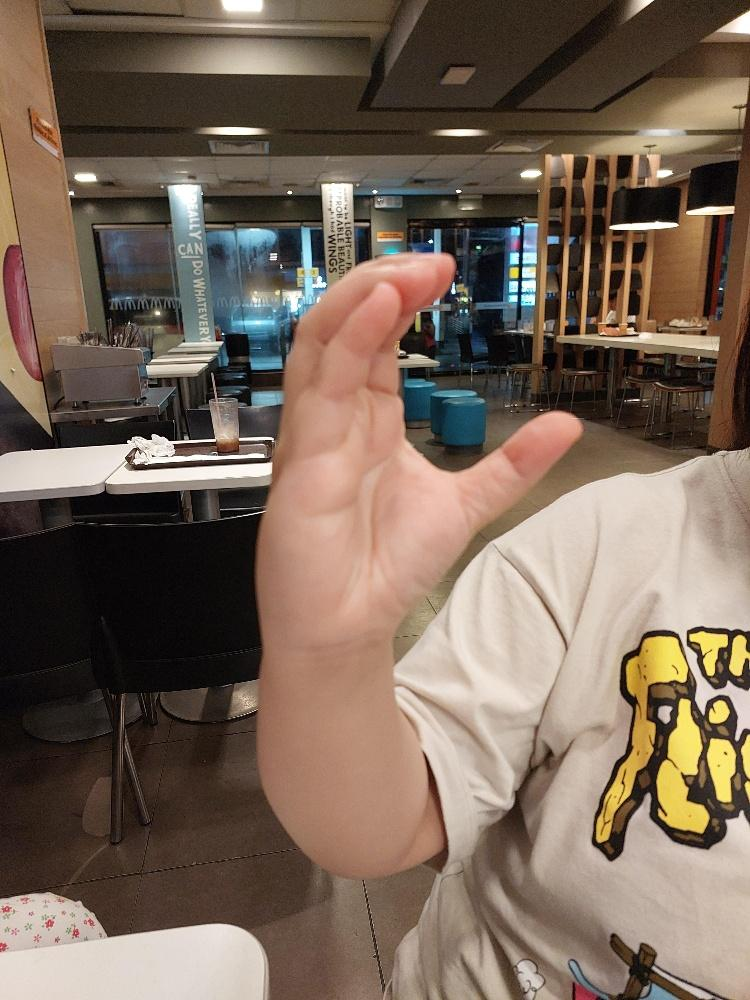c: (251, 248, 584, 652)
